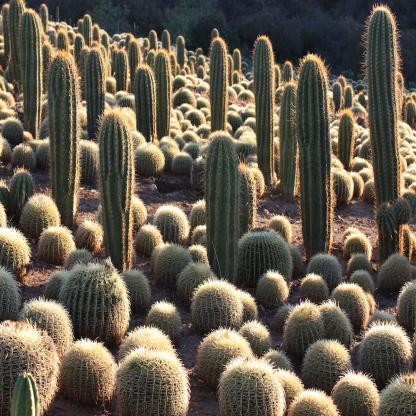Cactus: (0, 318, 60, 416), (64, 261, 129, 338), (119, 348, 186, 416), (58, 343, 117, 403), (236, 226, 291, 287), (219, 361, 282, 414), (361, 322, 412, 379), (191, 273, 240, 332), (199, 329, 253, 382), (305, 337, 351, 387), (284, 298, 322, 354), (332, 372, 378, 416), (22, 191, 58, 237), (155, 241, 191, 285), (334, 284, 366, 332), (154, 206, 190, 246), (39, 226, 73, 268), (148, 300, 181, 342), (308, 254, 343, 291), (1, 228, 31, 270), (379, 253, 409, 294), (258, 270, 288, 311), (76, 138, 100, 183), (76, 215, 102, 254), (134, 140, 164, 172), (331, 167, 355, 204), (137, 226, 161, 261), (241, 323, 268, 354), (32, 138, 52, 176), (345, 236, 372, 263), (0, 115, 23, 144), (10, 144, 34, 168), (172, 152, 193, 174)
